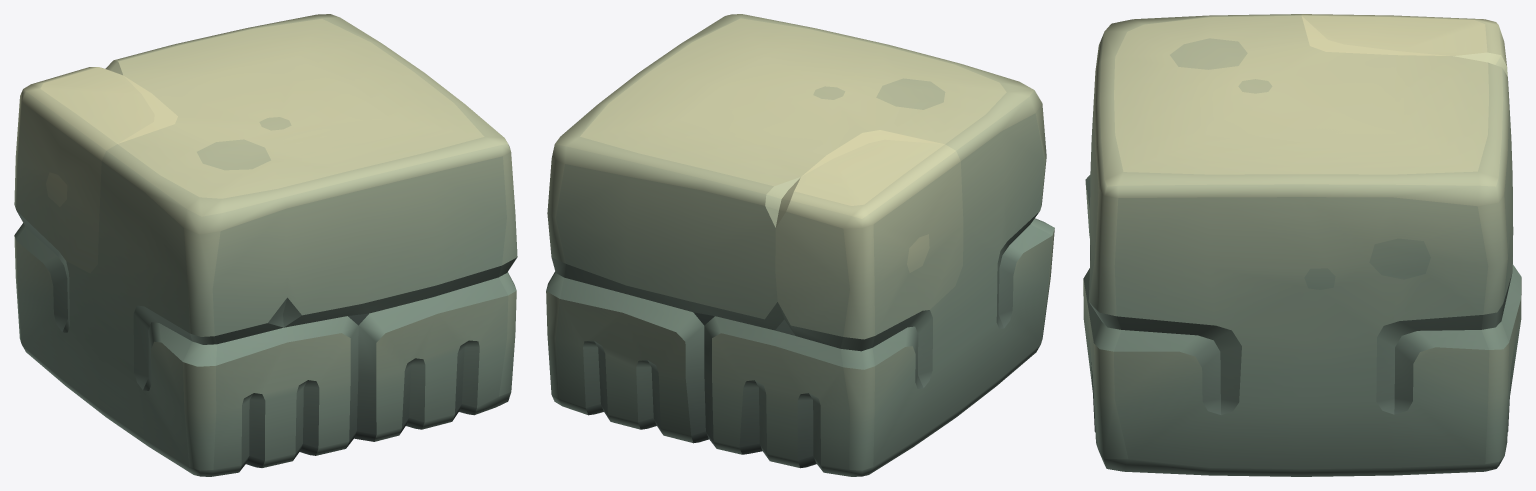
File: stone_cubes4.fbx
3 views of the same model, side by side, from view 1: azimuth 30°, elevation 25°; view 2: azimuth 150°, elevation 25°; view 3: azimuth 270°, elevation 25° (orthographic). The views are drawn at different scales.
Parts seen in each view (by area): view 1: stone_cubes4; view 2: stone_cubes4; view 3: stone_cubes4.
Part boxes in pixels (x1,y1,x2,y2): stone_cubes4: (14, 14, 517, 476); stone_cubes4: (546, 14, 1054, 476); stone_cubes4: (1083, 14, 1521, 476).
Bounding box in the file's own units: 219 × 174 × 225.
Materials: 1 (1 with a texture image).
